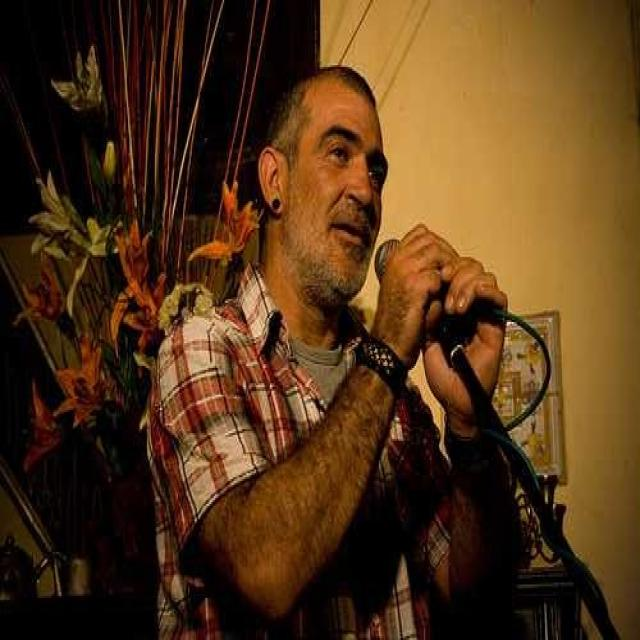microphone: (368, 234, 518, 354)
